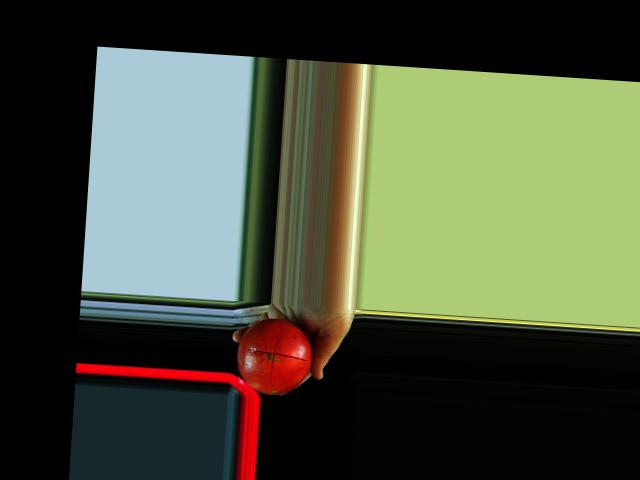tomato: (233, 315, 314, 397)
